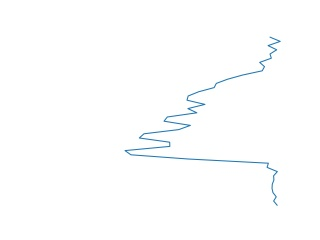proximalDeepseaFan: (122, 36, 285, 209)
